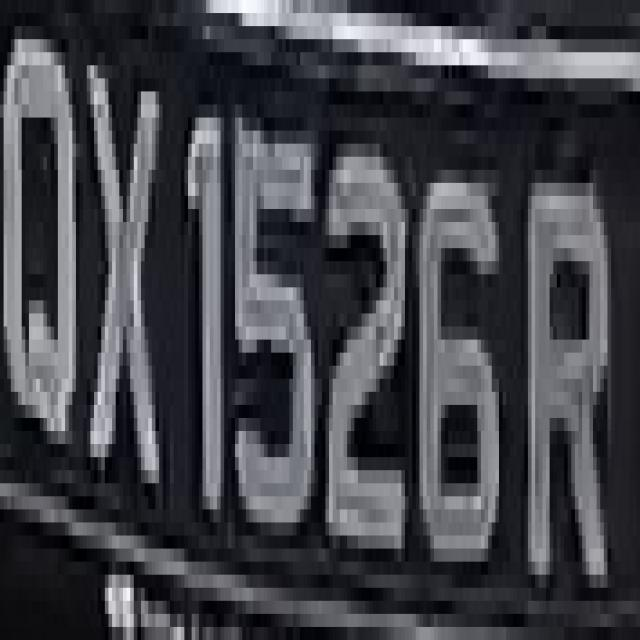1: (184, 52, 224, 549)
2: (322, 91, 405, 588)
5: (232, 104, 318, 548)
6: (412, 118, 503, 562)
Q: (7, 13, 80, 392)
R: (521, 157, 611, 614)
X: (76, 13, 173, 536)
